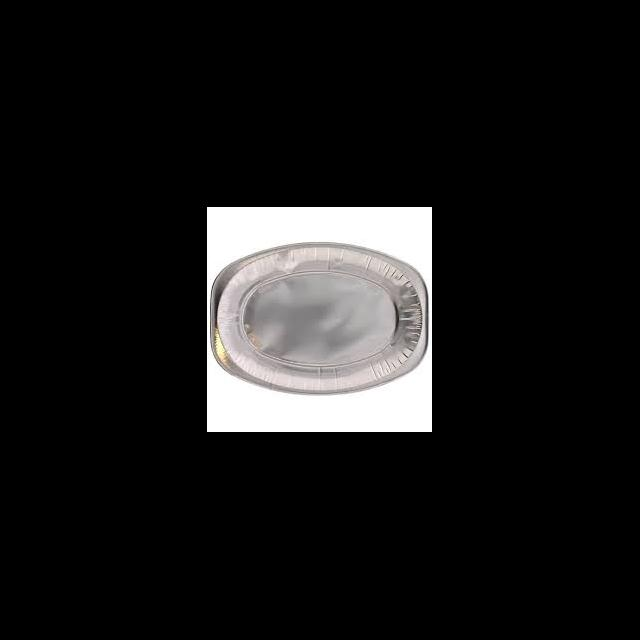metal: (210, 242, 428, 394)
